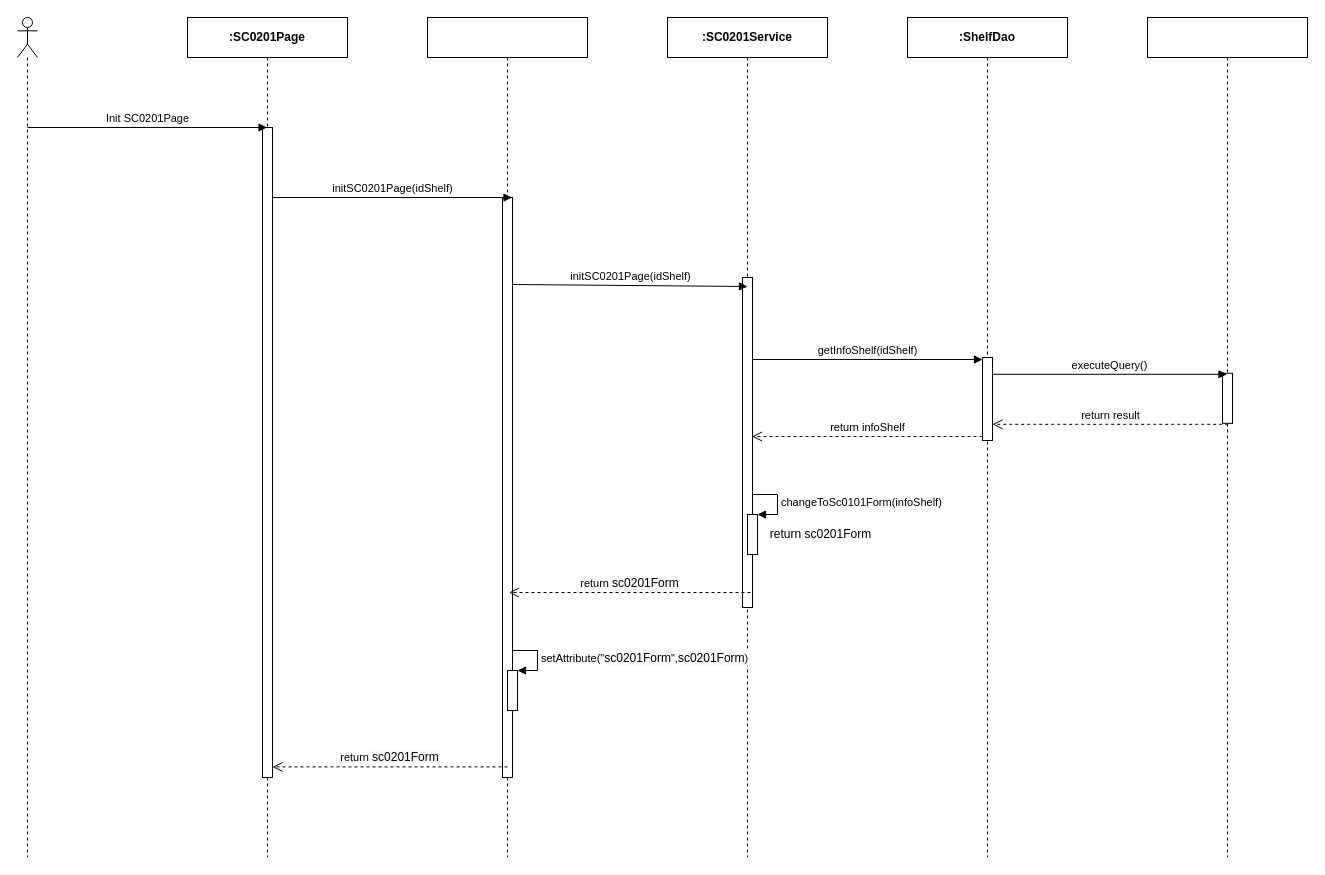
This 1325x875 diagram has some shape labels left out. The box of each missing label's shape, as (x1, y1, x2, y2) in pixels:
:SC0201Controller: (426, 16, 588, 858)
Database: (1146, 16, 1308, 858)
